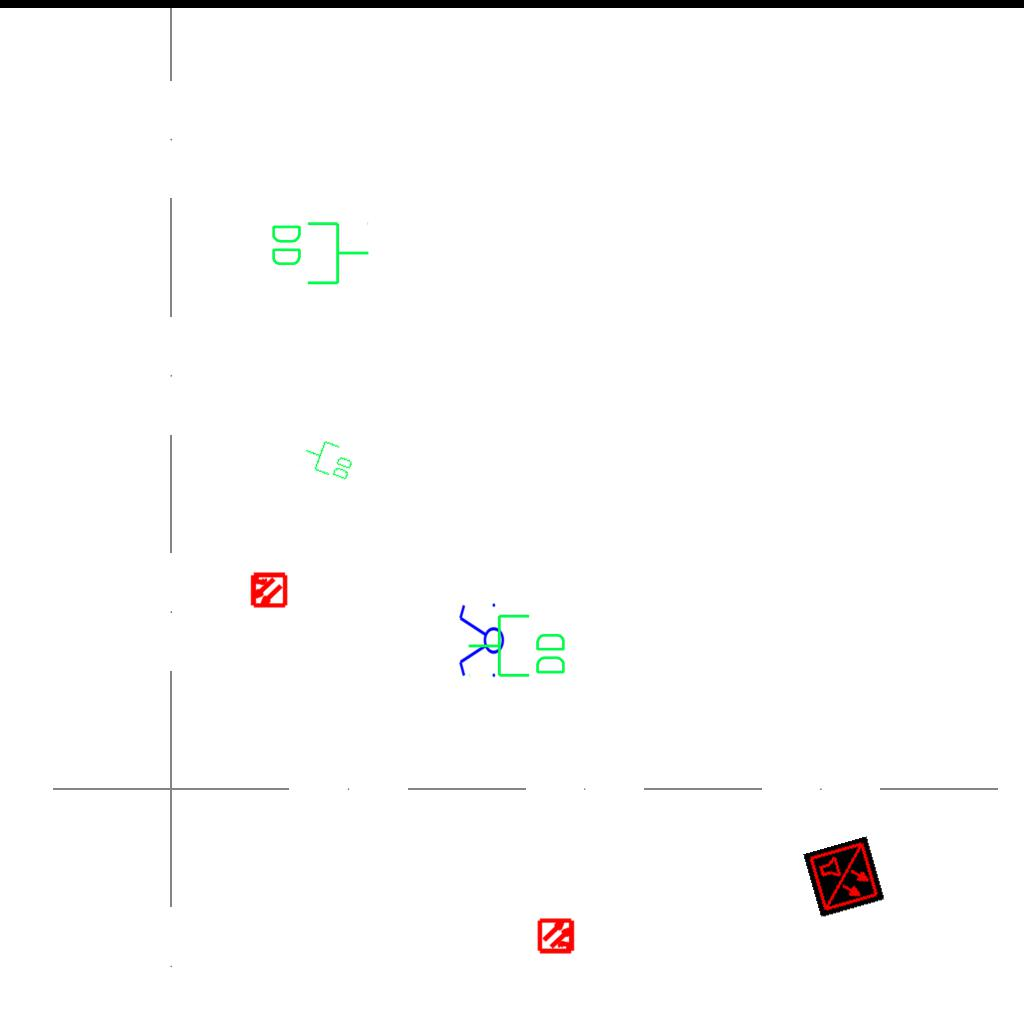Datenanschluss_zweifach: (268, 218, 371, 287), (466, 612, 569, 681), (298, 434, 359, 484)
OKW_Multisensormelder_(Kombination_optischer_Rauch-Kahlenmonoxid_Waerme-Melder): (803, 836, 885, 918)
OT_Multisensormelder_(Kombination_RMO_WMD): (529, 908, 585, 964), (240, 562, 296, 618)
Serienschalter: (457, 599, 505, 683)
